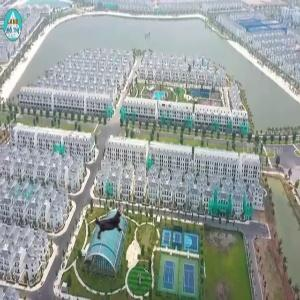drone: (89, 202, 133, 246)
